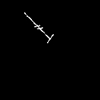treble_crochet: (25, 13, 52, 42)
